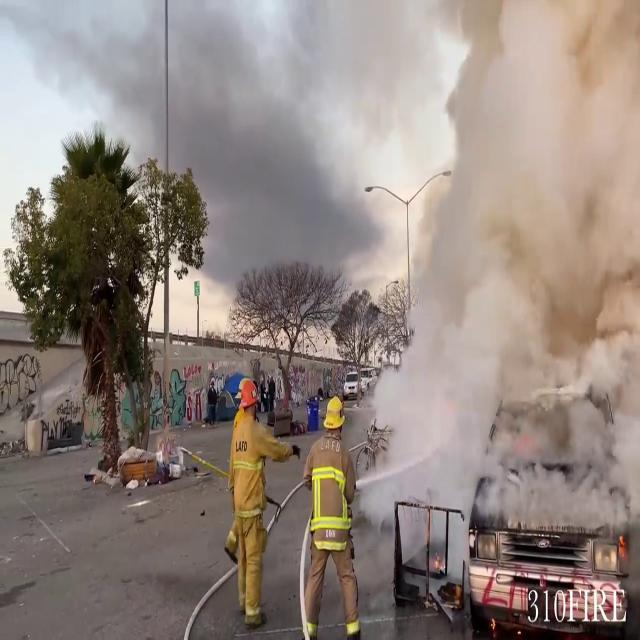Smoke: (366, 0, 640, 542)
